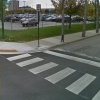crosswalk: (6, 53, 100, 100)
